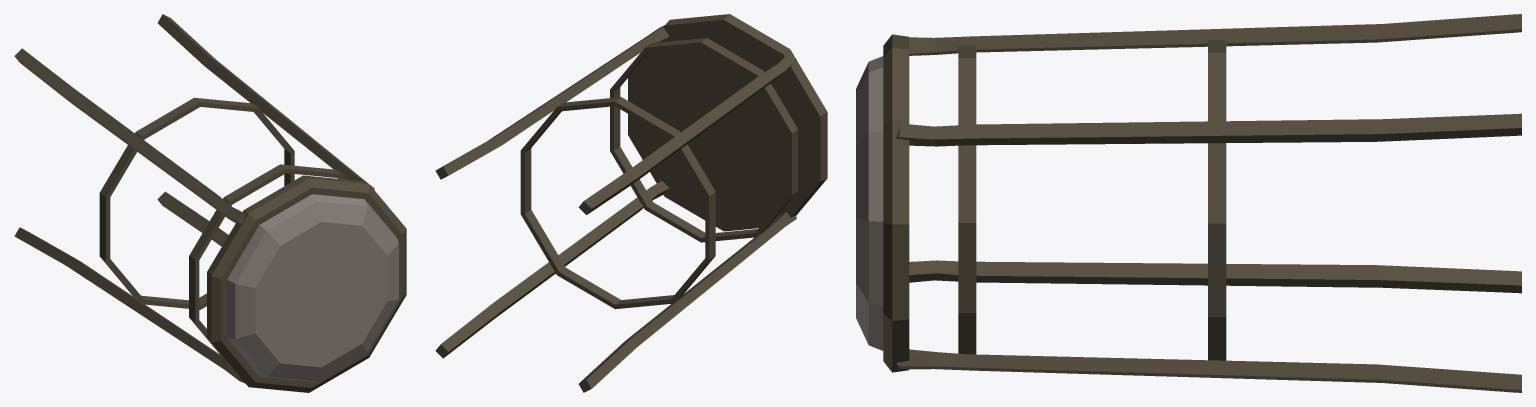
File: stool-counter.obj
3 views of the same model, side by side, from view 1: azimuth 30°, elevation 25°; view 2: azimuth 150°, elevation 25°; view 3: azimuth 270°, elevation 25° (orthographic). The views are drawn at different scales.
Parts seen in each view (by area): view 1: stool-counter; view 2: stool-counter; view 3: stool-counter.
Part boxes in pixels (left/top/right/bottom): stool-counter: left=14, top=14, right=406, bottom=392; stool-counter: left=435, top=14, right=827, bottom=392; stool-counter: left=856, top=14, right=1521, bottom=392.
Bounding box in the file's own units: 14.76 × 15.52 × 30.
